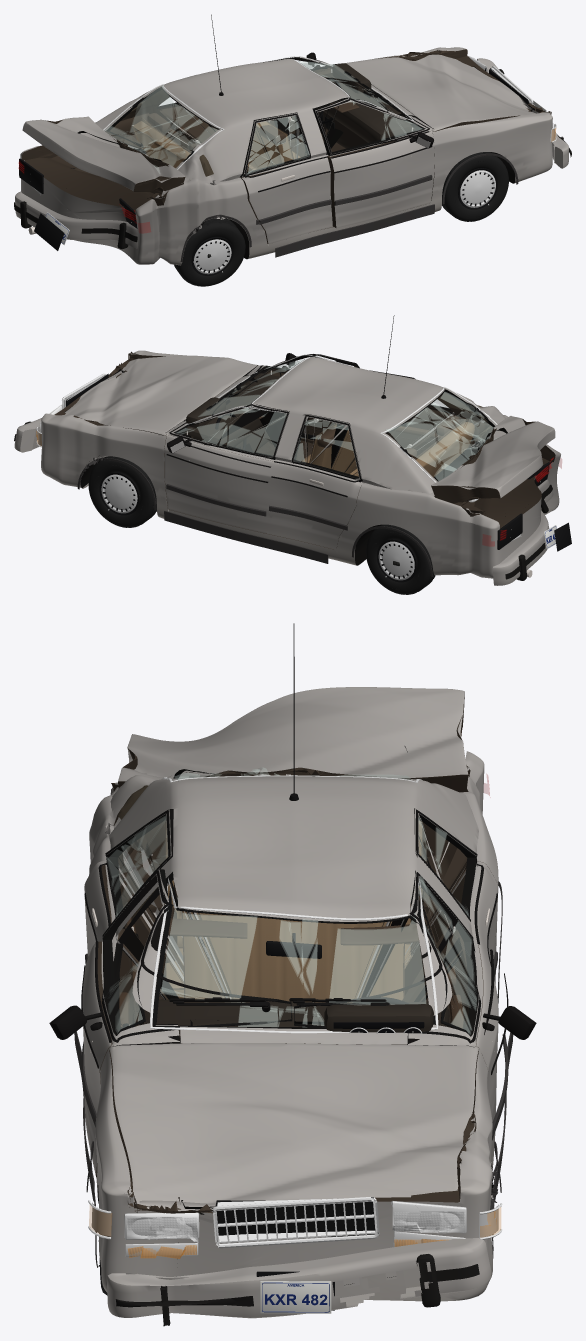
Rendered from sedan87_rear_corner_R_d1.glb.
The picture shows the model from 3 angles, top to bottom: view 1: azimuth 30°, elevation 25°; view 2: azimuth 150°, elevation 25°; view 3: azimuth 270°, elevation 25°; orthographic projection. The views are drawn at different scales.
Parts seen in each view (by area): view 1: Body, Hood, Door_FR, Interior, Trunk, Door_RR, Glass, Wheel_FR_mesh, Wheel_RR_mesh, Trim, Bumper_R, Ends (+6 smaller); view 2: Body, Hood, Door_FL, Interior, Glass, Door_RL, Trunk, Wheel_FL_mesh, Wheel_RL_mesh, Trim, Glass_FL, Bumper_R (+9 smaller); view 3: Body, Hood, Interior, Trunk, Glass, Ends, Bumper_F, Door_FR, Door_FL, Trim_FR, Trim_FL, Door_RR (+9 smaller).
Boxes of the visible parts, left/top/right/bottom form: Body: left=20, top=47, right=552, bottom=265; Hood: left=345, top=54, right=539, bottom=131; Door_FR: left=313, top=99, right=434, bottom=228; Interior: left=132, top=63, right=415, bottom=171; Trunk: left=22, top=116, right=185, bottom=192; Door_RR: left=240, top=112, right=332, bottom=244; Glass: left=103, top=56, right=413, bottom=173; Wheel_FR_mesh: left=442, top=152, right=508, bottom=221; Wheel_RR_mesh: left=174, top=218, right=245, bottom=286; Trim: left=180, top=14, right=518, bottom=261; Bumper_R: left=14, top=191, right=137, bottom=249; Ends: left=19, top=56, right=556, bottom=250; Body: left=41, top=350, right=560, bottom=578; Hood: left=64, top=355, right=257, bottom=435; Door_FL: left=164, top=404, right=289, bottom=533; Interior: left=184, top=373, right=474, bottom=477; Glass: left=185, top=354, right=497, bottom=502; Door_RL: left=268, top=414, right=363, bottom=549; Trunk: left=431, top=416, right=555, bottom=502; Wheel_FL_mesh: left=88, top=456, right=156, bottom=527; Wheel_RL_mesh: left=366, top=524, right=435, bottom=594; Trim: left=77, top=315, right=433, bottom=576; Glass_FL: left=174, top=404, right=288, bottom=456; Bumper_R: left=492, top=479, right=553, bottom=585; Body: left=89, top=751, right=498, bottom=1301; Hood: left=109, top=1043, right=478, bottom=1214; Interior: left=138, top=820, right=449, bottom=1043; Trunk: left=118, top=687, right=468, bottom=792; Glass: left=150, top=767, right=438, bottom=1033; Ends: left=88, top=1196, right=502, bottom=1313; Bumper_F: left=106, top=1238, right=491, bottom=1326; Door_FR: left=82, top=869, right=179, bottom=1176; Door_FL: left=408, top=870, right=498, bottom=1166; Trim_FR: left=49, top=870, right=292, bottom=1127; Trim_FL: left=294, top=872, right=536, bottom=1140; Door_RR: left=84, top=809, right=173, bottom=1024.
Bounding box in the file's own units: 4.91 × 2.17 × 2.09.
33 materials, 5 textured.
